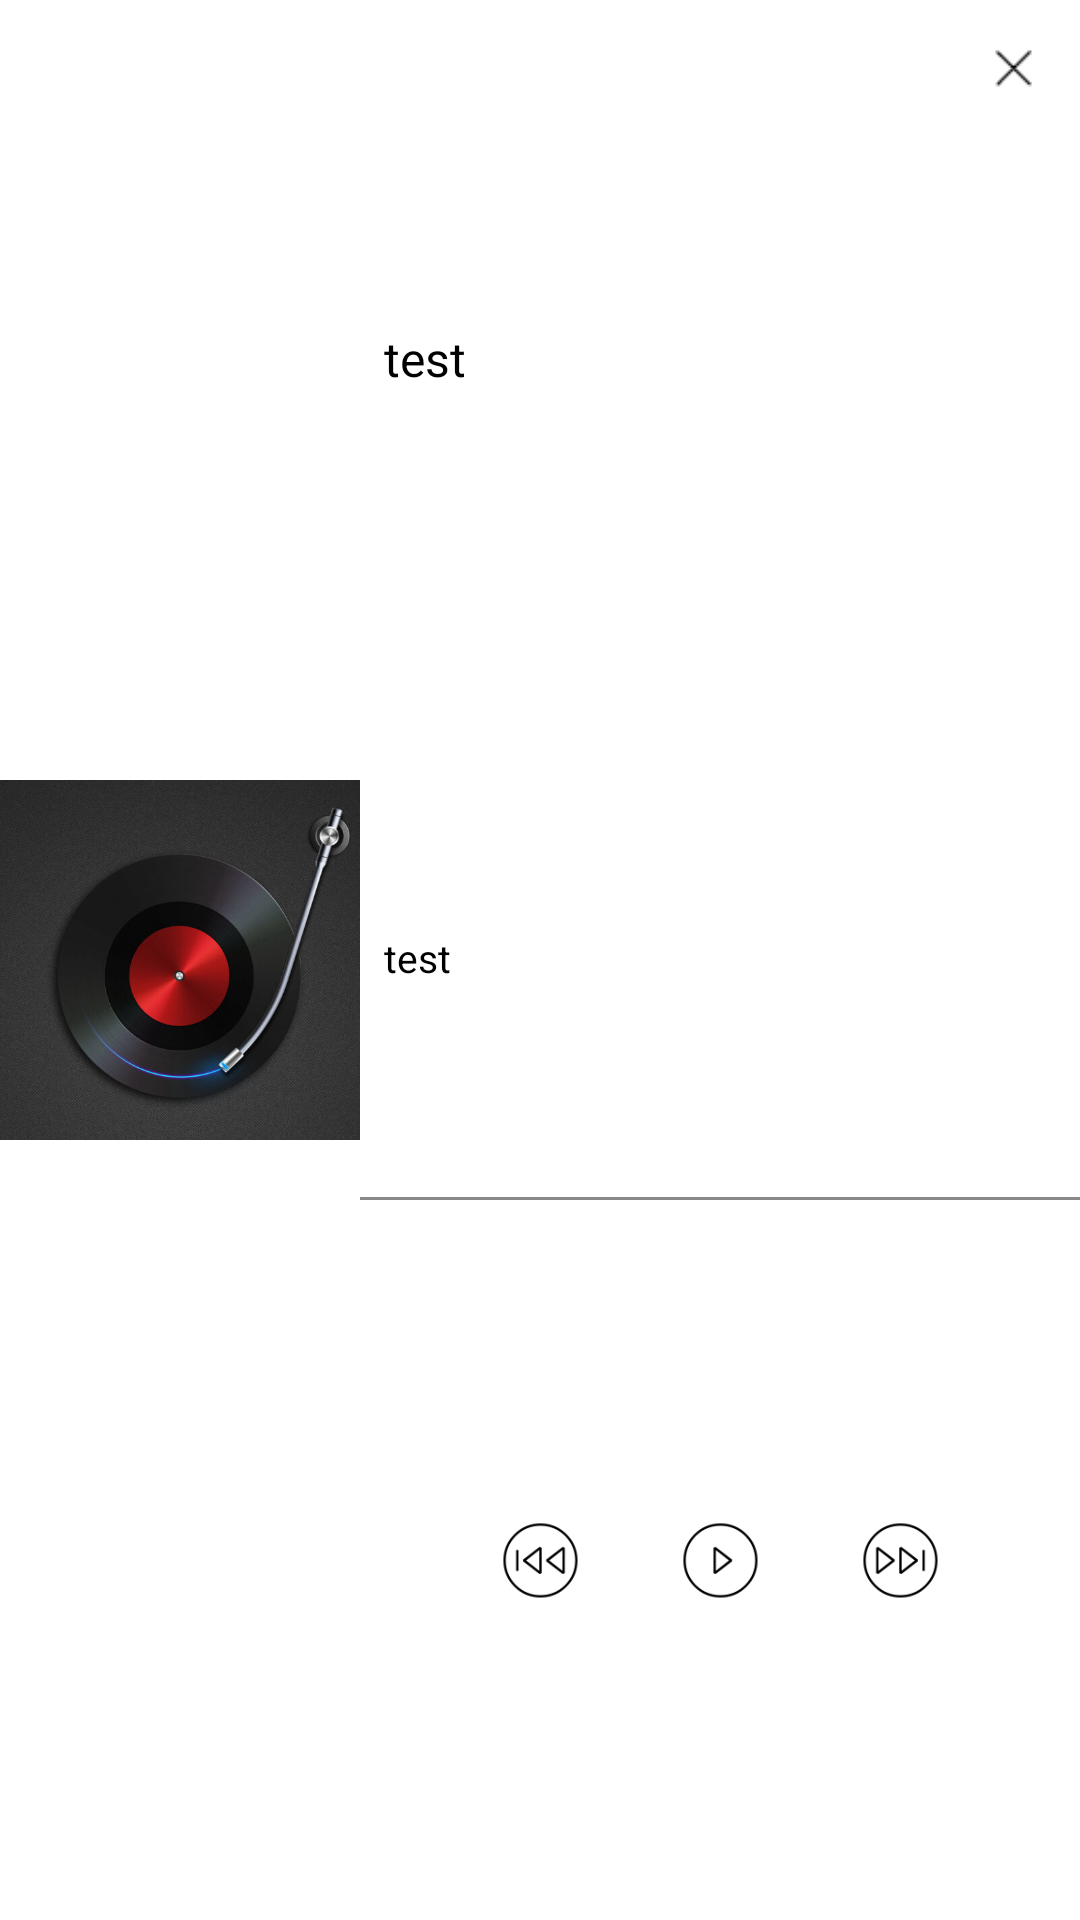

Icons on this 1080×1920 Android screen, each with the point to tap as [x,y]:
notification exit: [1013,68]
notification next: [900,1560]
notification play: [720,1560]
notification previous: [540,1560]
